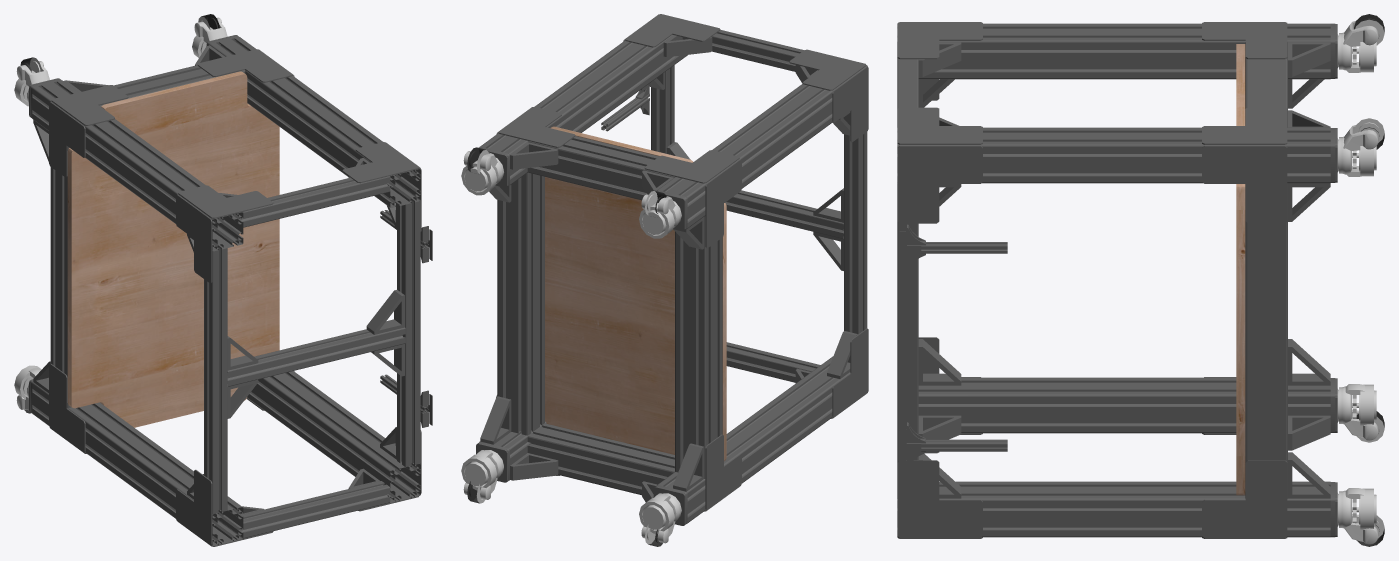
Rendered from homecart_basecart.obj.
The picture shows the model from 3 angles, left to right: view 1: azimuth 30°, elevation 25°; view 2: azimuth 150°, elevation 25°; view 3: azimuth 270°, elevation 25°; orthographic projection. The views are drawn at different scales.
Size of the model in its own units: 0.6495 by 0.9854 by 1.03.
Materials: 5 (1 with a texture image).
